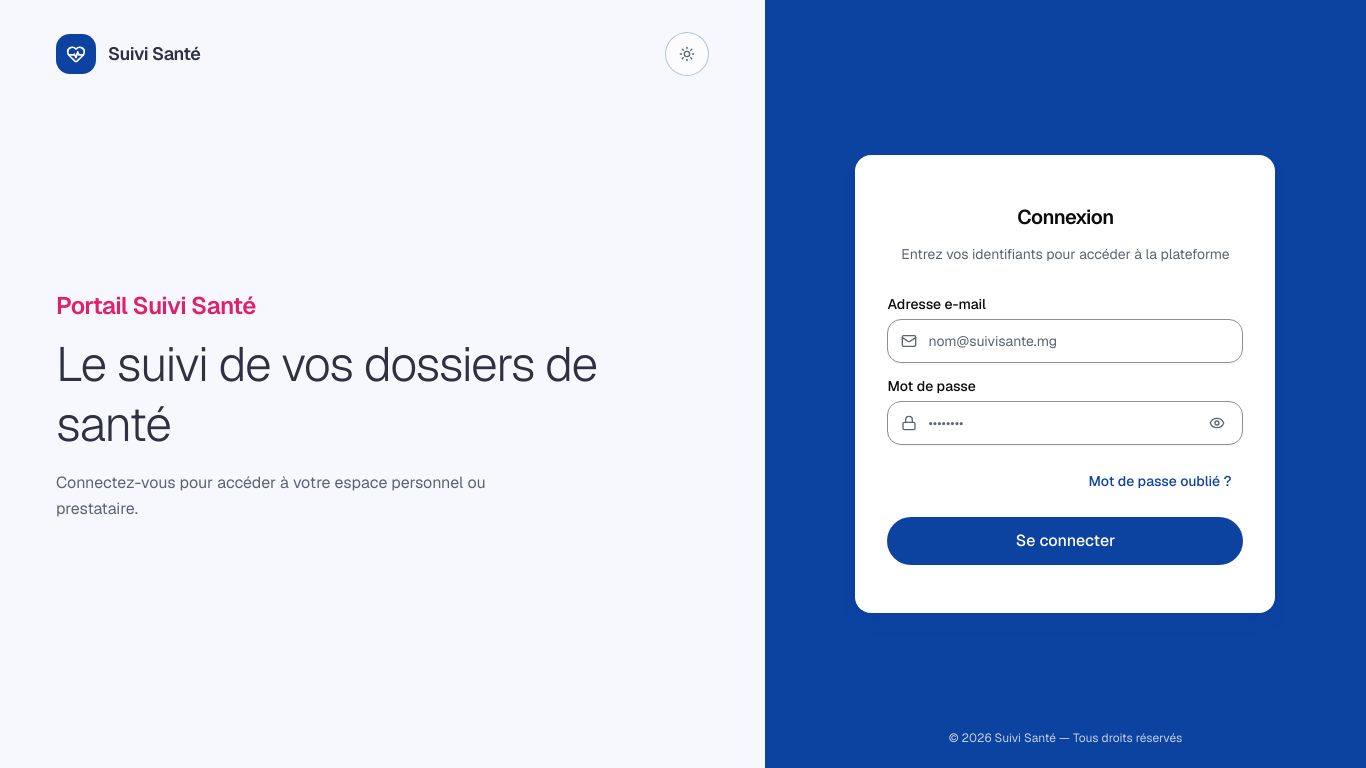
Test: Page de connexion › affiche la durée de verrouillage quand le compte est bloqué
Type "admin@suivisante.mg" into the field labelled "Adresse e-mail".
click(1066, 341); type("admin@suivisante.mg")  # box top-left (888, 319), bottom-right (1244, 363)
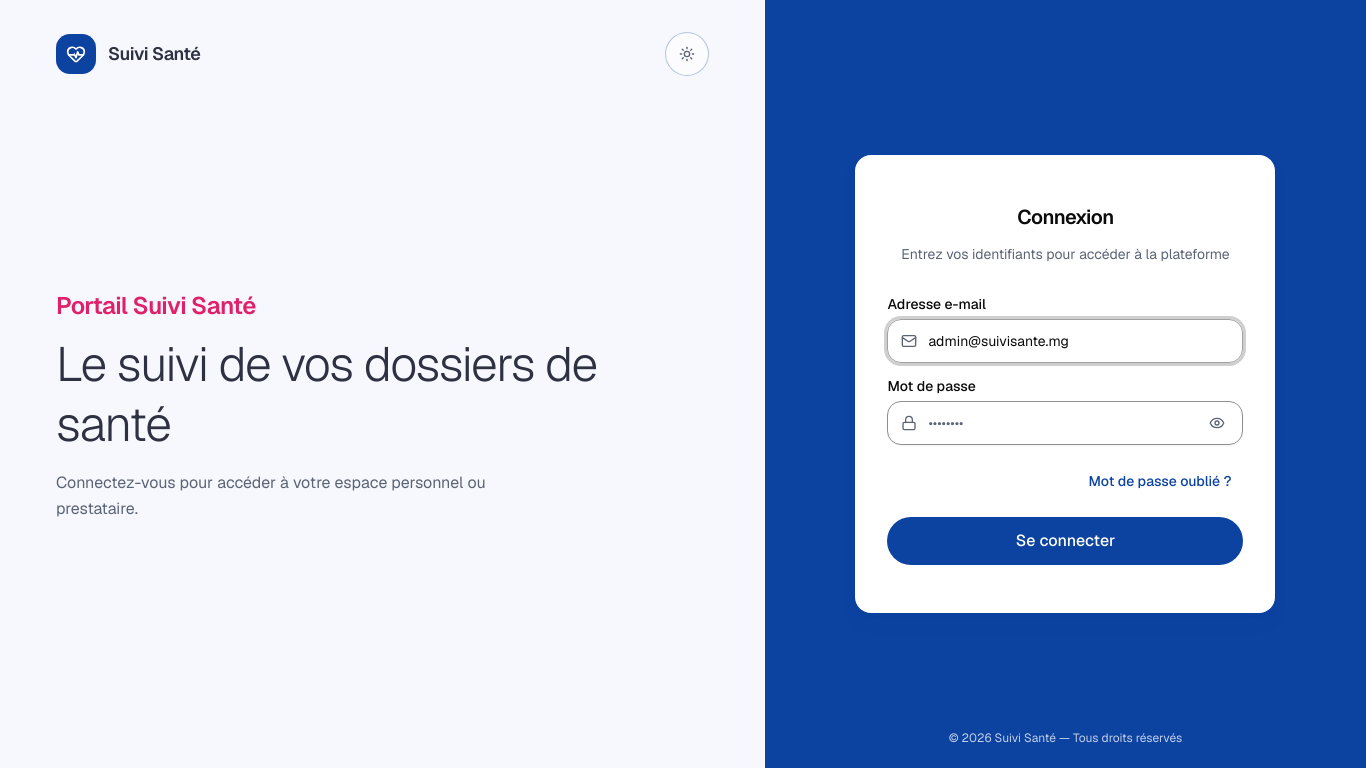
Type "x" into the password field labelled "Mot de passe".
click(1066, 423); type("x")  # box top-left (888, 401), bottom-right (1244, 445)
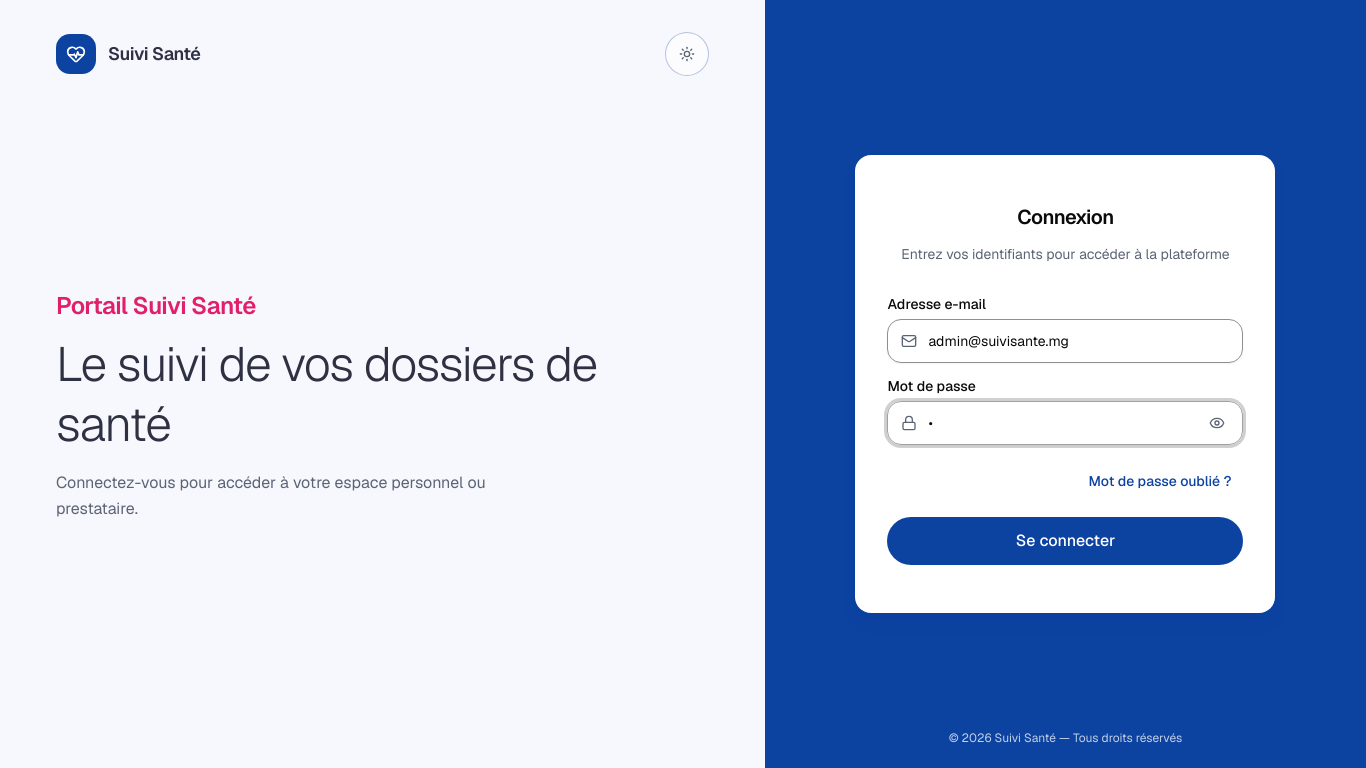
Click the button "Se connecter".
click(1066, 541)  # box top-left (888, 517), bottom-right (1244, 565)
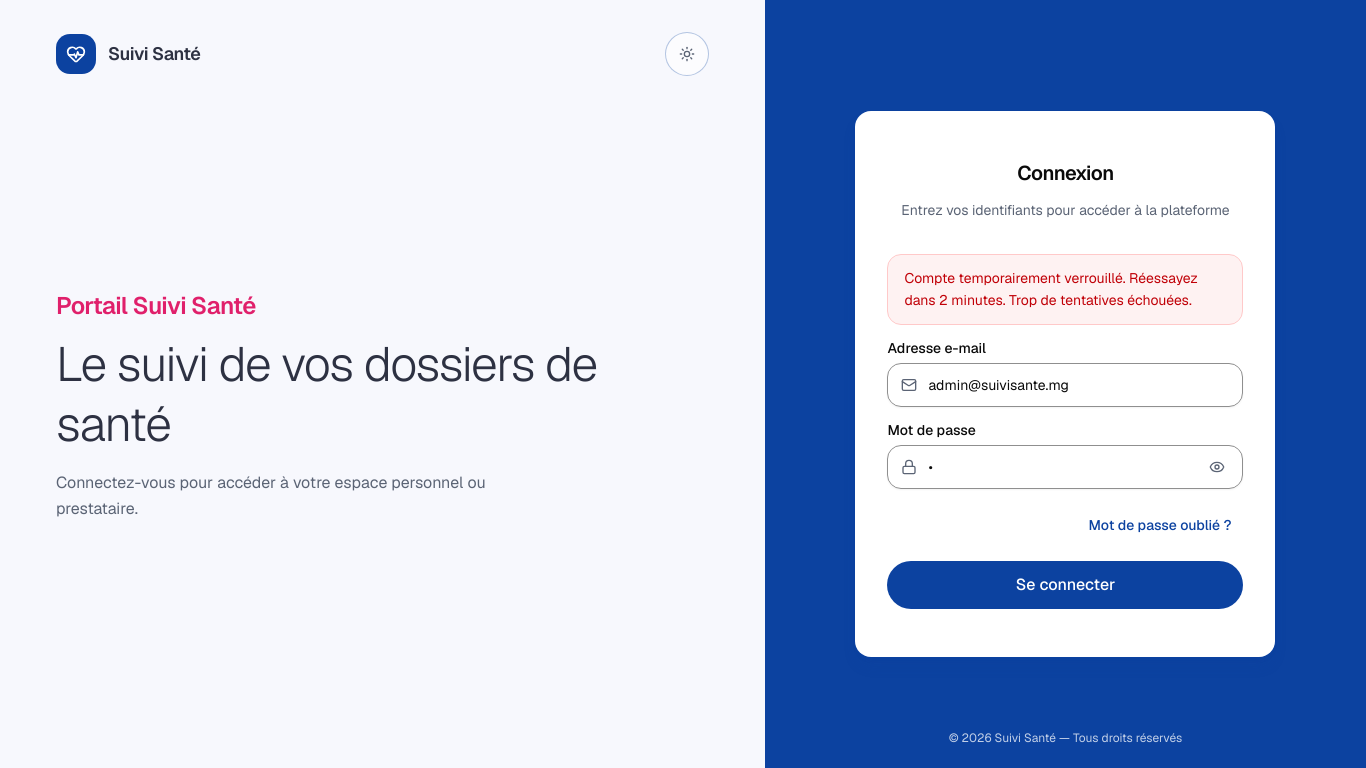
Check: the message shows "Compte temporairement verrouillé", box top-left (904, 269), bottom-right (1198, 309)
Check: the message shows "2 minutes", box top-left (904, 269), bottom-right (1198, 309)
